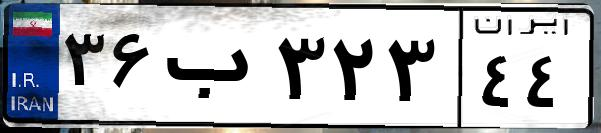2: (330, 28, 385, 110)
3: (270, 28, 330, 110), (385, 28, 445, 110), (57, 26, 110, 100)
4: (475, 38, 525, 113), (525, 38, 570, 115)
6: (110, 28, 158, 98)
ب: (158, 20, 270, 120)
